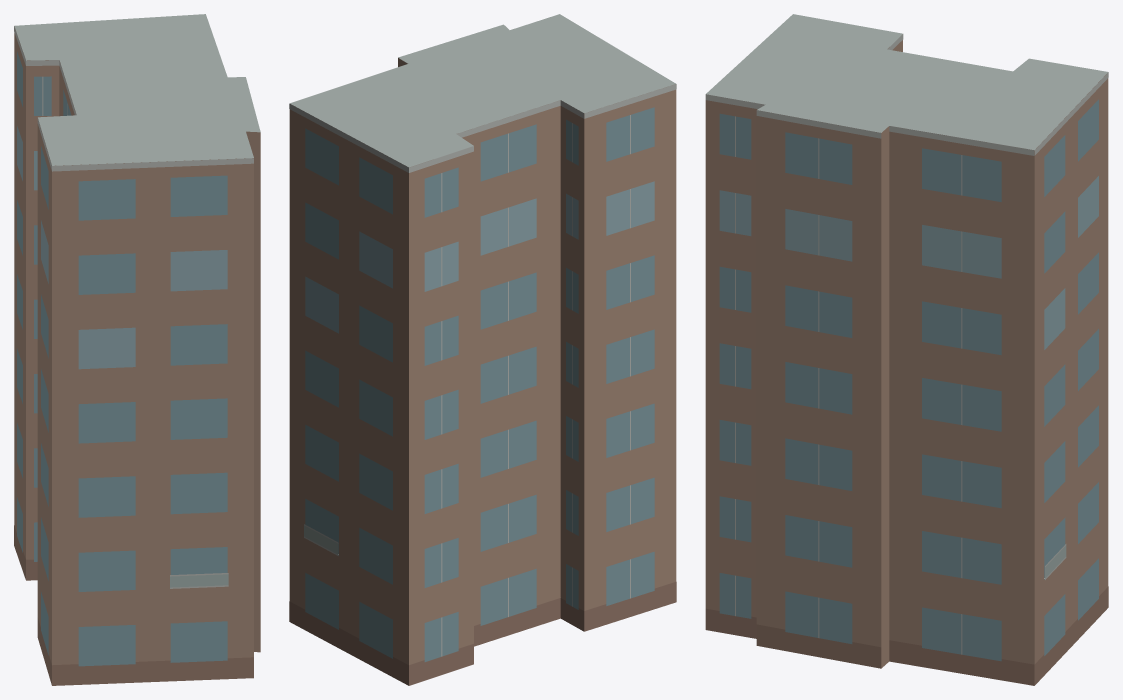
Rendered from survey-upis-32567536.glb.
3 views of the same model, side by side, from view 1: azimuth 30°, elevation 25°; view 2: azimuth 150°, elevation 25°; view 3: azimuth 270°, elevation 25° (orthographic). The views are drawn at different scales.
Parts seen in each view (by area): view 1: survey-upis-32567536.tmp; view 2: survey-upis-32567536.tmp; view 3: survey-upis-32567536.tmp.
Boxes of the visible parts, x1,y1,x2,y2 form: survey-upis-32567536.tmp: (14, 14, 260, 685); survey-upis-32567536.tmp: (289, 14, 676, 685); survey-upis-32567536.tmp: (705, 14, 1108, 685).
Size of the model in its own units: 12.28 by 22.5 by 15.35.
